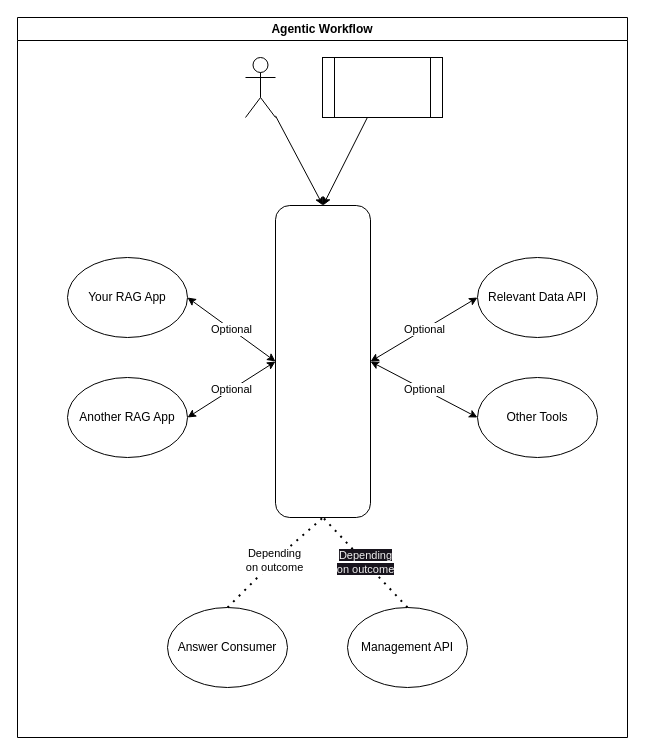
The diagram is 645 pixels wide and 755 high, and some of its shapes have lost their labels. Here are the shapes that lost their labels. From the top down, the centre of each, then its label:
pixel 382 87: Some Triggered Process
pixel 322 361: Your Agentic App
